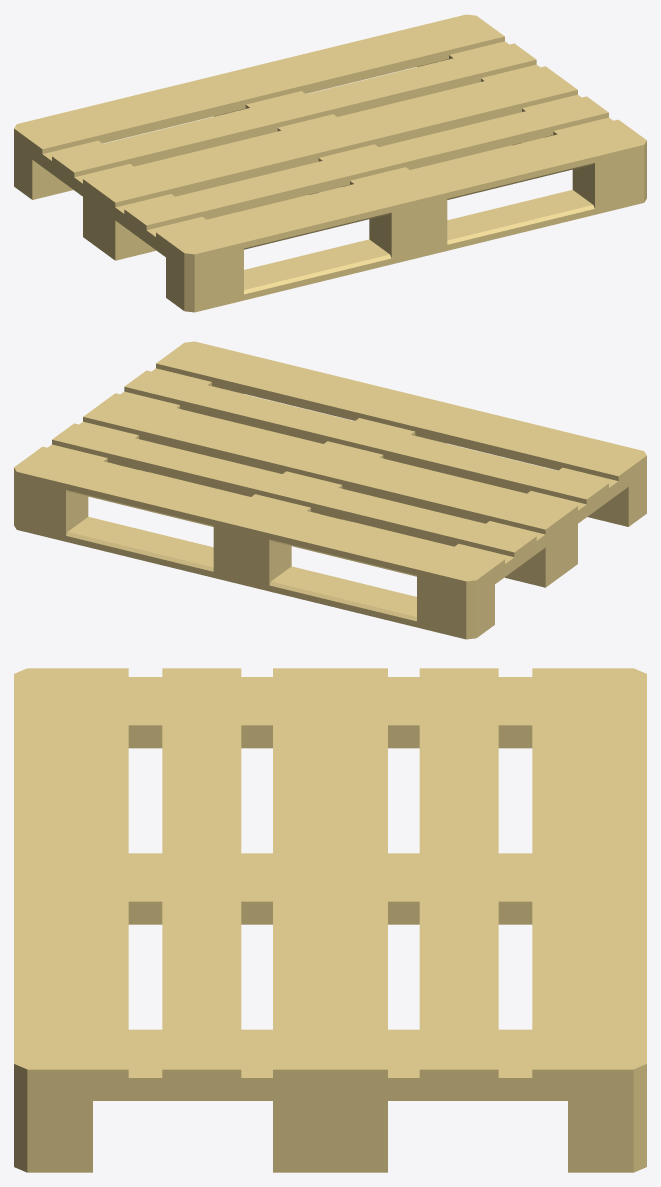
The model's file is Body.dae.
3 renders of one model, top to bottom at view 1: azimuth 30°, elevation 25°; view 2: azimuth 150°, elevation 25°; view 3: azimuth 270°, elevation 25°, orthographic. The views are drawn at different scales.
Visible parts, largest first — view 1: tmp_export_Body; view 2: tmp_export_Body; view 3: tmp_export_Body.
Part boxes in pixels (left/top/right/bottom): tmp_export_Body: left=14, top=14, right=646, bottom=312; tmp_export_Body: left=14, top=341, right=646, bottom=639; tmp_export_Body: left=14, top=668, right=646, bottom=1172.
Size of the model in its own units: 1.2 by 0.8 by 0.144.
